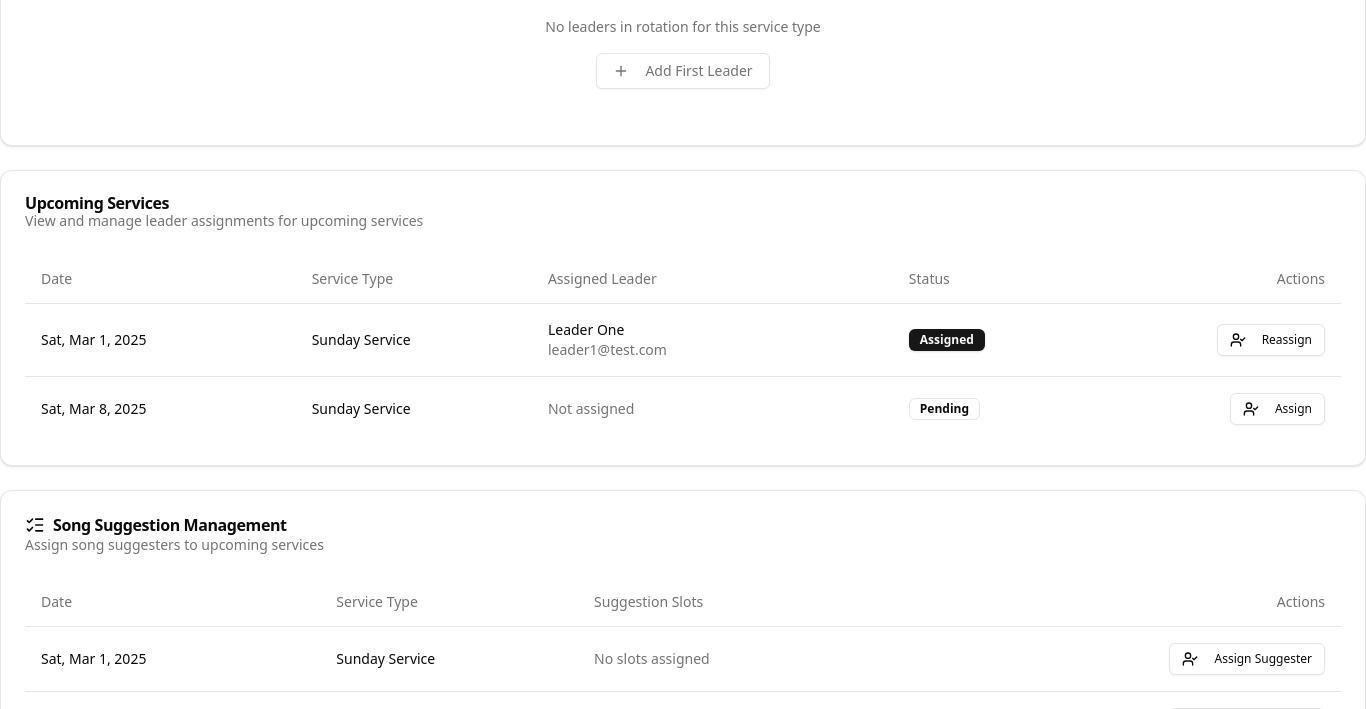
Scenario: AdminDashboard Page › Upcoming Services Display › should open assign leader modal when assign button clicked
(page scrolled)
Click the button "Reassign". click: (1271, 340)
box: [1217, 324, 1325, 356]
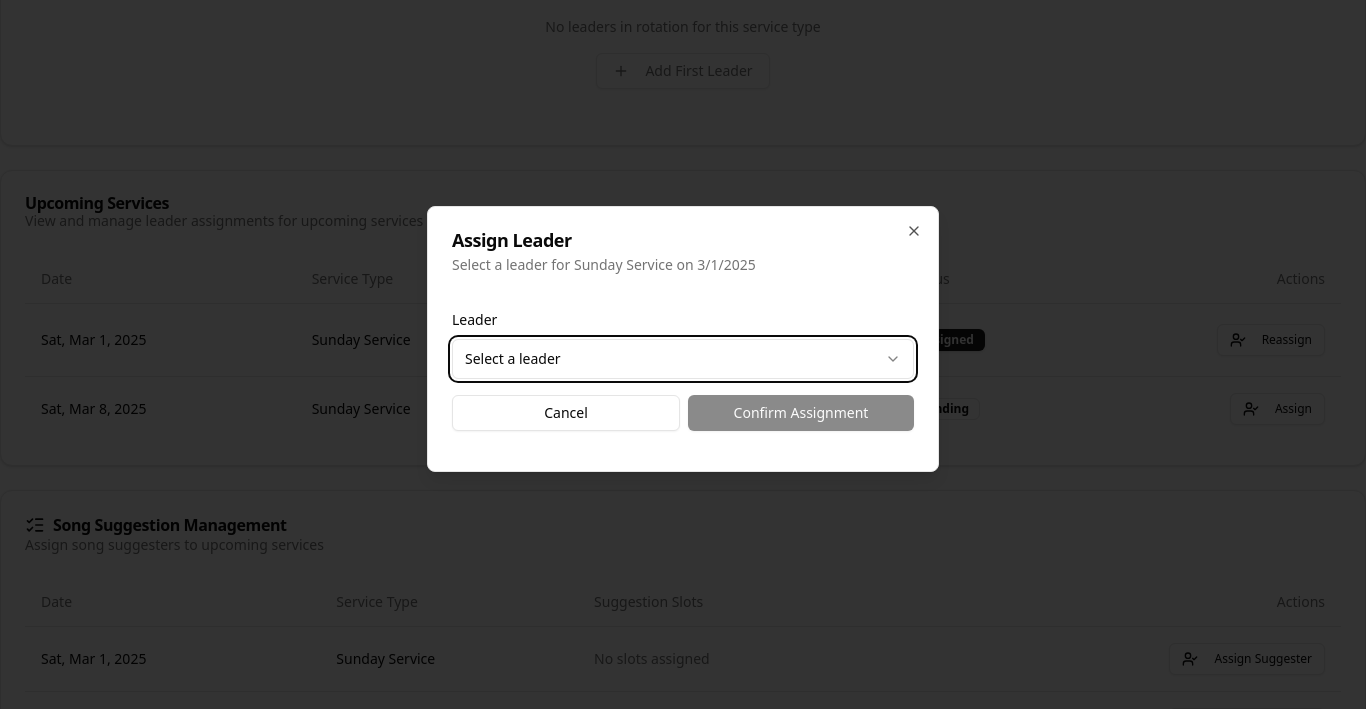
Expected: the heading "Assign Leader" is shown, [452, 228, 572, 252]
